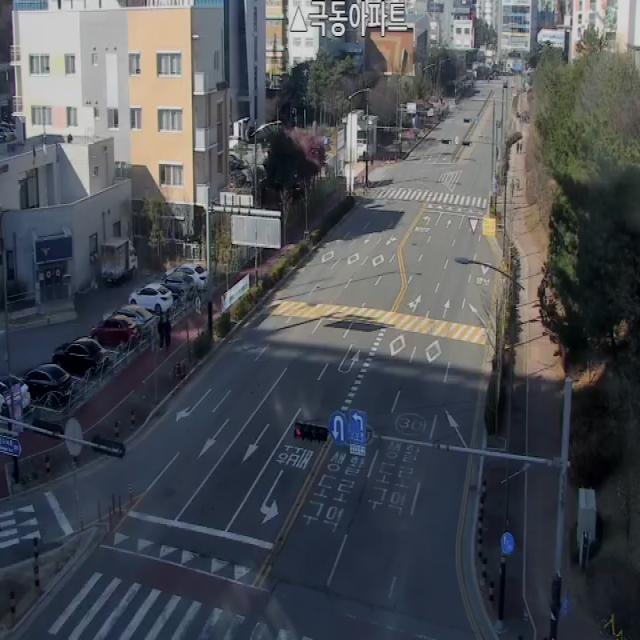Car: (21, 361, 74, 406), (53, 334, 108, 375), (102, 232, 138, 281), (90, 312, 137, 347), (0, 371, 32, 417), (155, 271, 200, 299), (129, 282, 174, 309), (164, 257, 208, 282)
